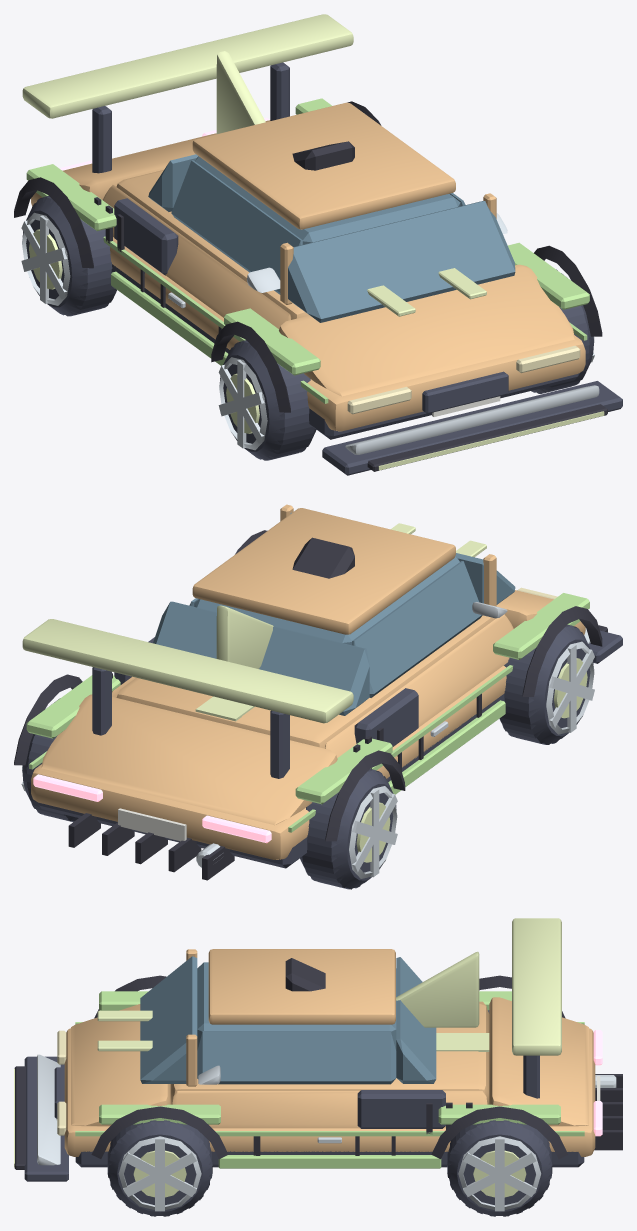
Rendered from curb_cutter.fbx.
3 renders of one model, top to bottom at view 1: azimuth 30°, elevation 25°; view 2: azimuth 150°, elevation 25°; view 3: azimuth 270°, elevation 25°, orthographic. The views are drawn at different scales.
Visible parts, largest first — view 1: Body, Glass, Accent2, Trim2, Accent, Trim, Metal, Wheel_FR, Wheel_RR, Accent3, Light, Light2 (+2 smaller); view 2: Body, Glass, Accent2, Trim, Accent, Trim2, Metal, Wheel_RR, Wheel_FR, Light3, Light, Accent4 (+2 smaller); view 3: Body, Glass, Accent2, Trim, Accent, Trim2, Metal, Wheel_RL, Wheel_FL, Accent3, Light, Metal2 (+2 smaller).
Part boxes in pixels (<box>): Body: <box>31,102,585,431</box>; Glass: <box>148,154,515,322</box>; Accent2: <box>22,14,353,133</box>; Trim2: <box>92,62,622,475</box>; Accent: <box>26,98,589,403</box>; Trim: <box>14,101,607,471</box>; Metal: <box>21,212,594,450</box>; Wheel_FR: <box>219,340,316,460</box>; Wheel_RR: <box>22,196,116,316</box>; Accent3: <box>247,213,599,454</box>; Light: <box>367,268,604,470</box>; Light2: <box>347,345,580,414</box>; Body: <box>31,504,585,859</box>; Glass: <box>153,512,515,715</box>; Accent2: <box>22,605,353,723</box>; Trim: <box>14,530,607,880</box>; Accent: <box>26,593,589,832</box>; Trim2: <box>36,630,622,868</box>; Metal: <box>21,641,594,878</box>; Wheel_RR: <box>300,769,396,889</box>; Wheel_FR: <box>499,624,593,744</box>; Light3: <box>33,774,271,843</box>; Light: <box>195,523,486,721</box>; Accent4: <box>118,808,186,841</box>; Body: <box>64,949,595,1156</box>; Glass: <box>140,956,436,1084</box>; Accent2: <box>396,918,561,1055</box>; Trim: <box>14,958,622,1169</box>; Accent: <box>75,991,584,1168</box>; Trim2: <box>24,1055,584,1181</box>; Metal: <box>118,1075,616,1211</box>; Wheel_RL: <box>447,1120,552,1216</box>; Wheel_FL: <box>107,1120,212,1216</box>; Accent3: <box>37,1054,220,1165</box>; Light: <box>14,1010,489,1167</box>; Metal2: <box>133,1150,526,1197</box>.
Bounding box in the file's own units: 3 × 2 × 5.51.
